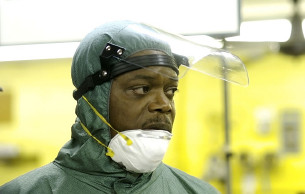face_mask: (103, 62, 179, 160)
